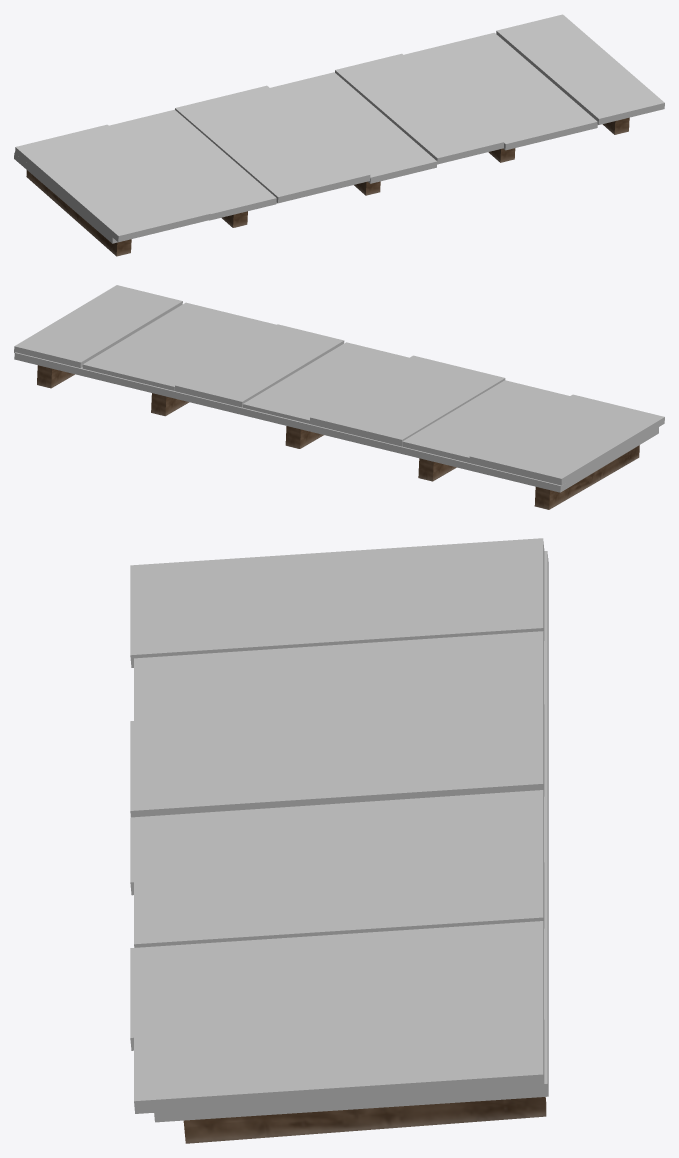
The model's file is spf_ant_sunshade2.fbx.
3 renders of one model, top to bottom at view 1: azimuth 30°, elevation 25°; view 2: azimuth 150°, elevation 25°; view 3: azimuth 270°, elevation 25°, orthographic. The views are drawn at different scales.
Visible parts, largest first — view 1: spf_ant_sunshade2; view 2: spf_ant_sunshade2; view 3: spf_ant_sunshade2.
Boxes of the visible parts, left/top/right/bottom form: spf_ant_sunshade2: left=14, top=14, right=664, bottom=256; spf_ant_sunshade2: left=14, top=285, right=664, bottom=509; spf_ant_sunshade2: left=130, top=538, right=548, bottom=1143.
Bounding box in the file's own units: 2.77 × 0.2274 × 0.9164.
